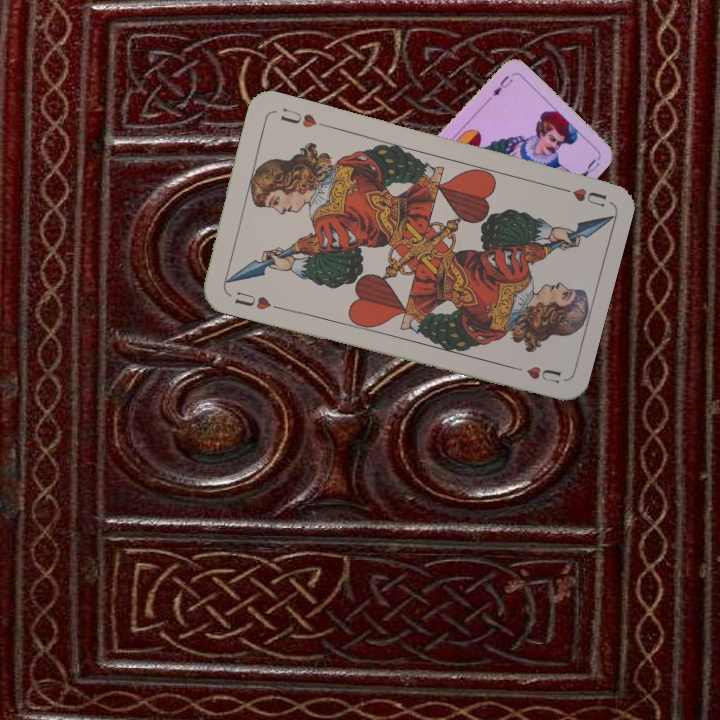EU: (488, 71, 515, 99)
HU: (552, 182, 609, 210), (230, 287, 282, 313)
